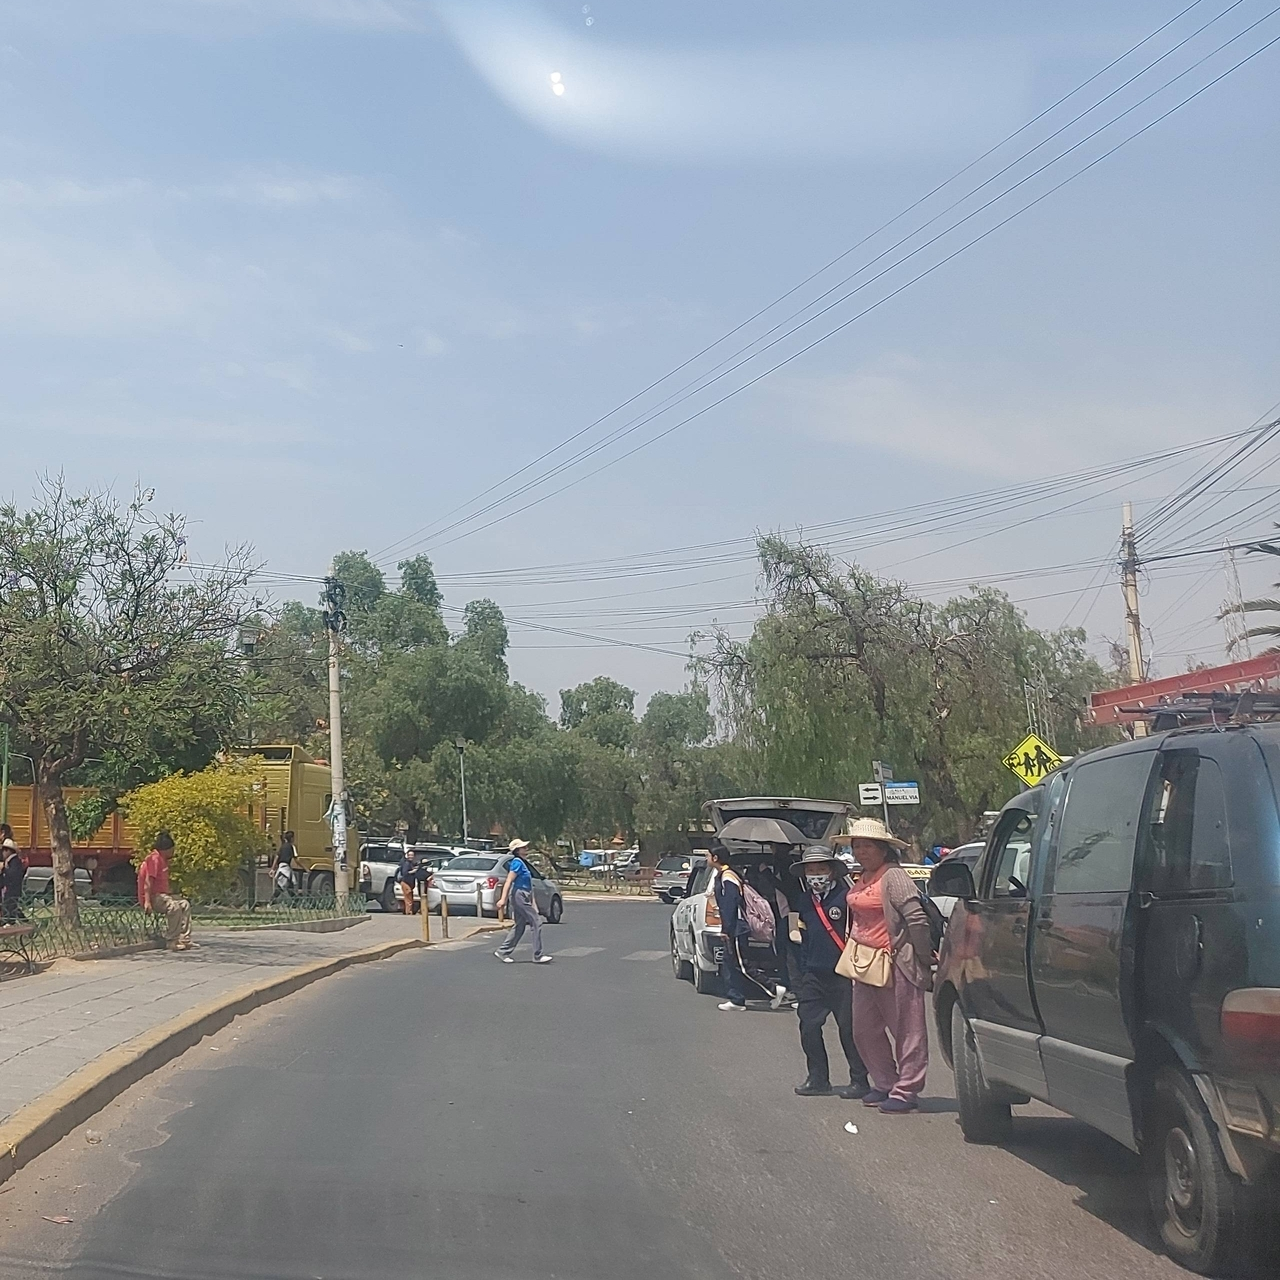zona-escolar: (1005, 736, 1063, 788)
